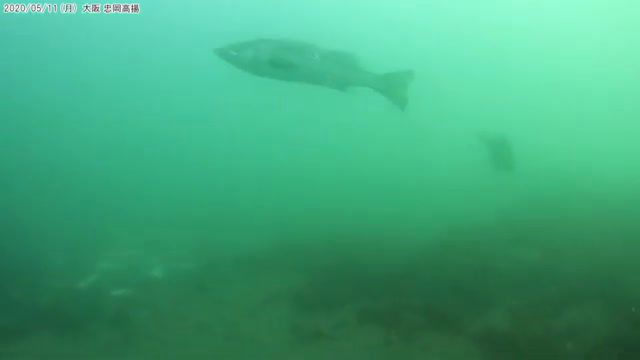smallfish: (213, 25, 414, 100)
